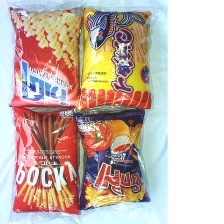snack: (72, 2, 157, 118), (70, 101, 155, 216), (2, 3, 89, 112), (5, 102, 84, 217)
